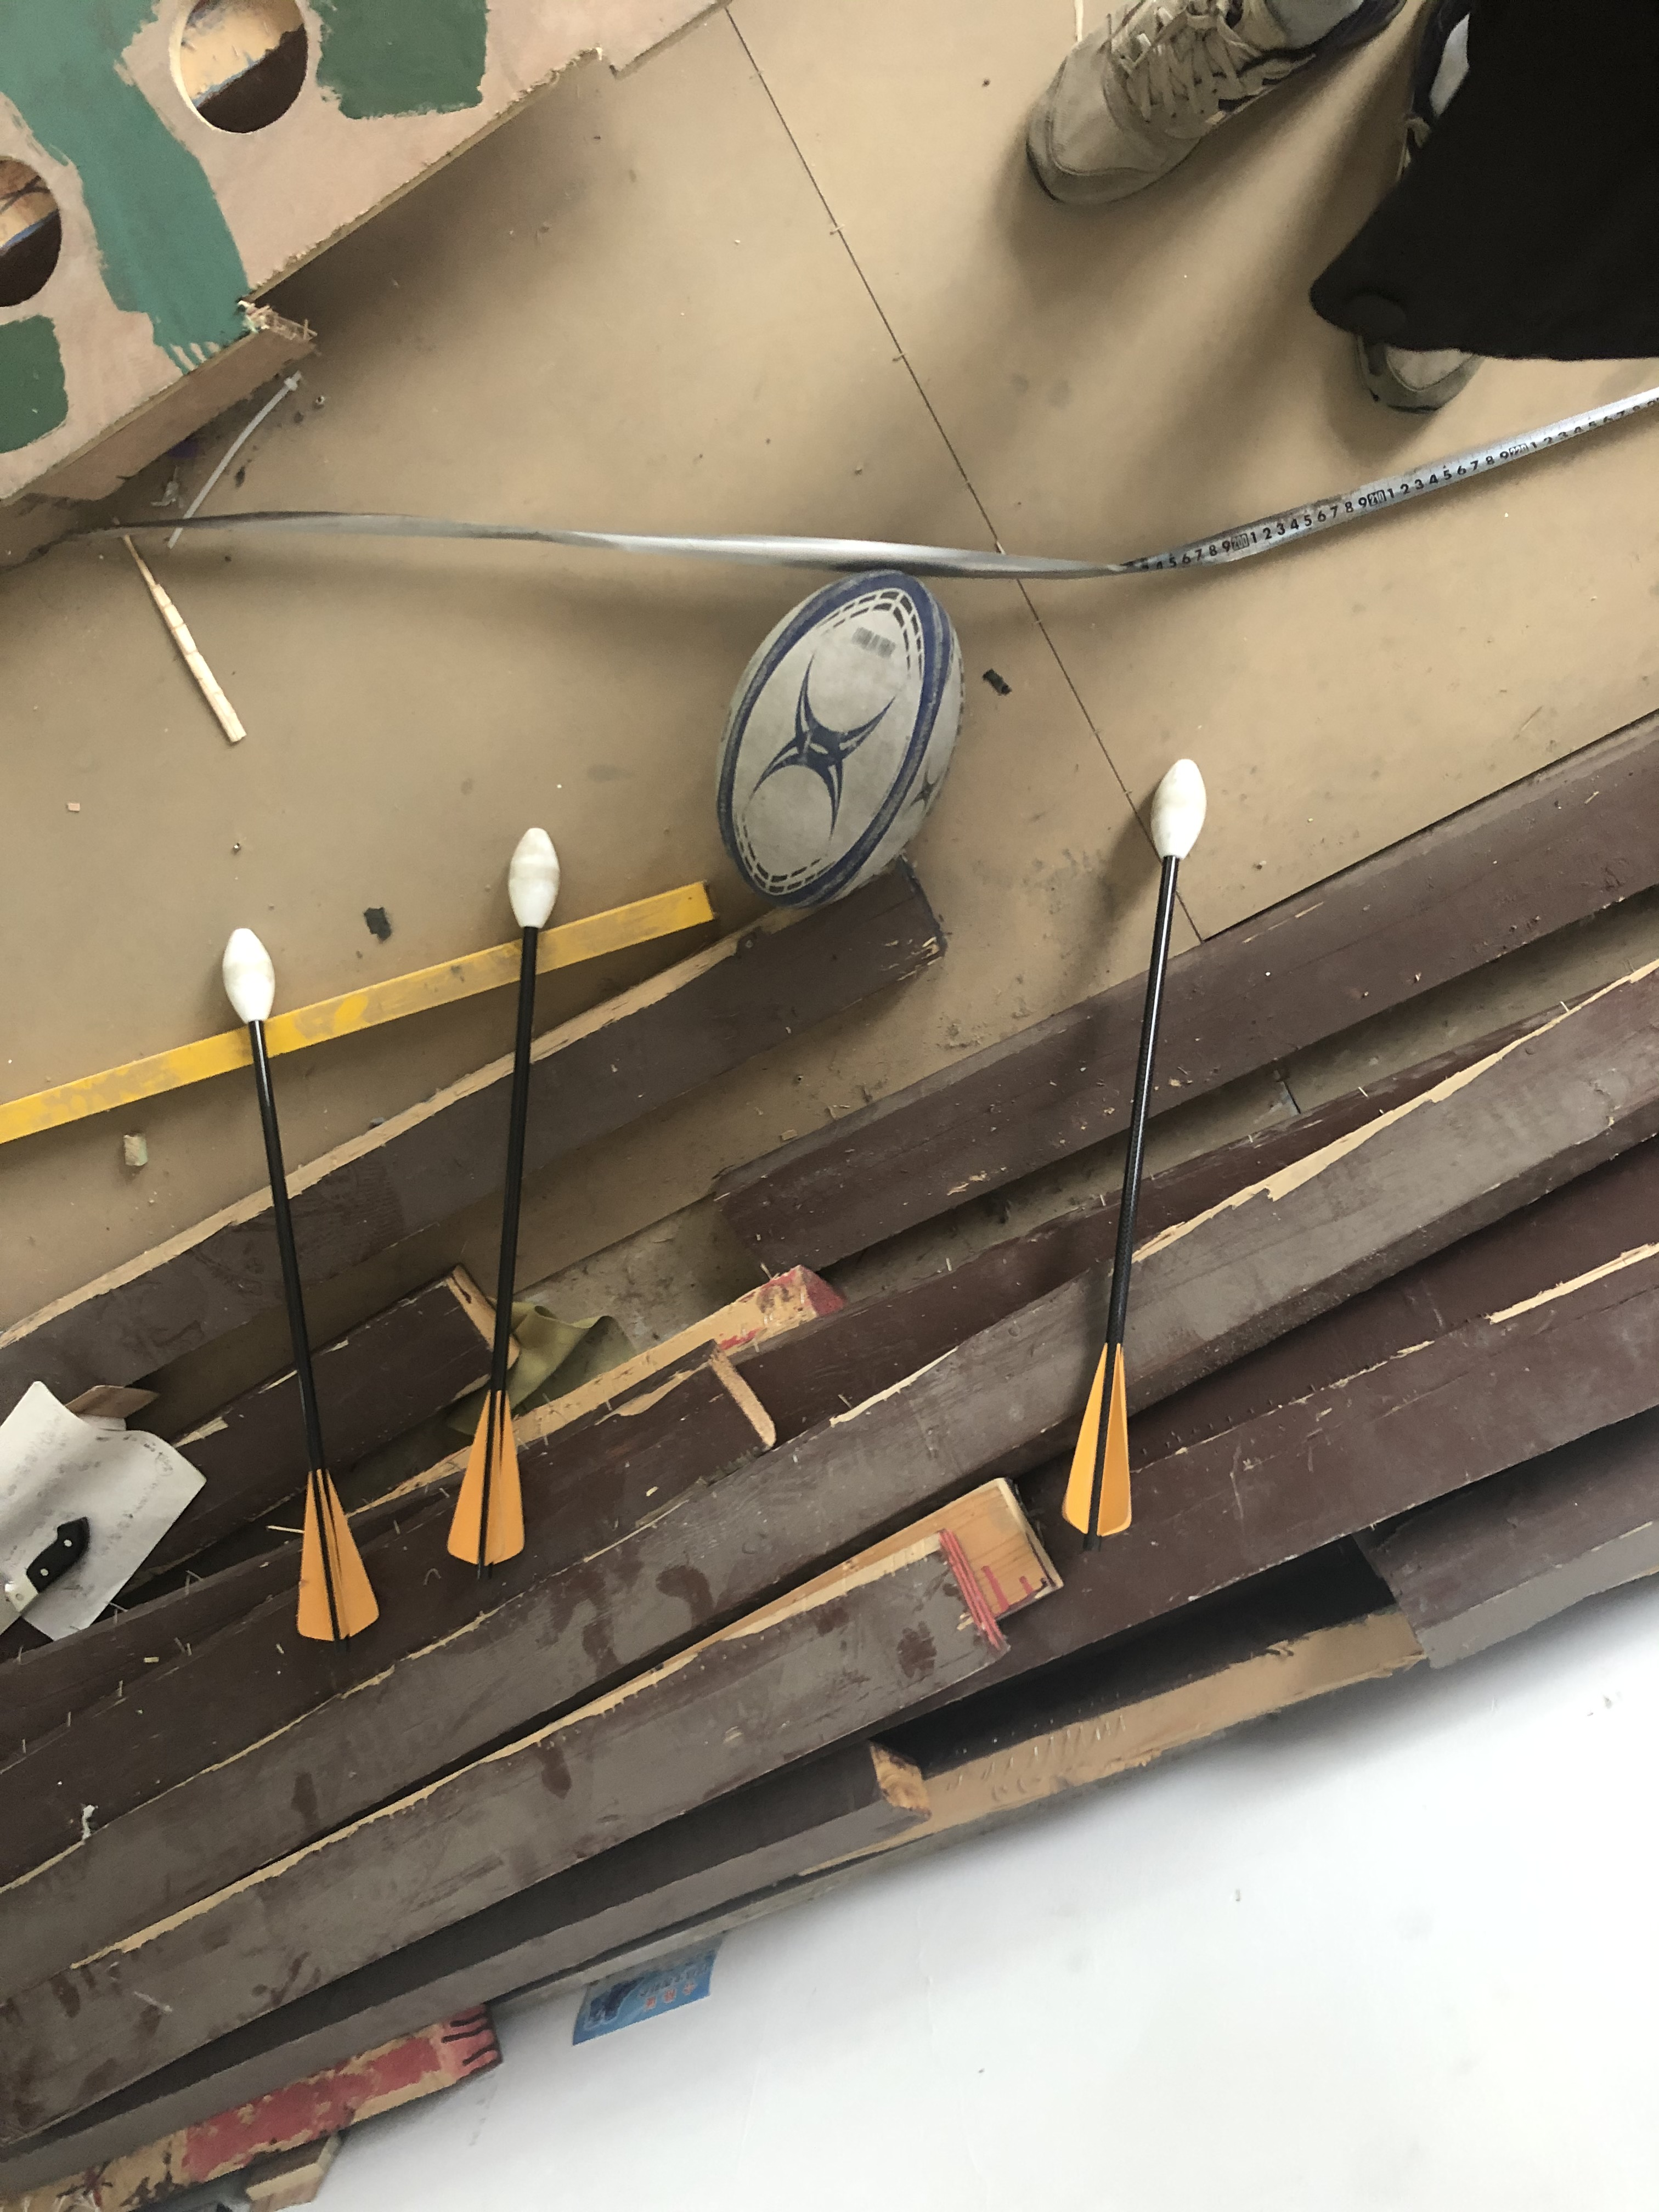arrow: (216, 918, 383, 1653), (1061, 754, 1204, 1545), (441, 827, 563, 1566)
arrowFront: (502, 824, 566, 935), (1147, 752, 1209, 862), (220, 923, 277, 1021)
